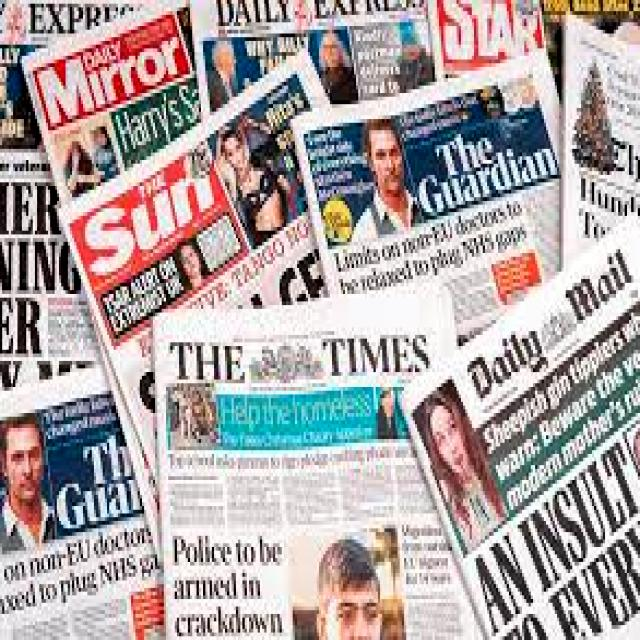Paper: (149, 275, 489, 640), (394, 207, 640, 640), (289, 40, 562, 342), (0, 360, 165, 640), (18, 0, 205, 205), (559, 9, 640, 270)
